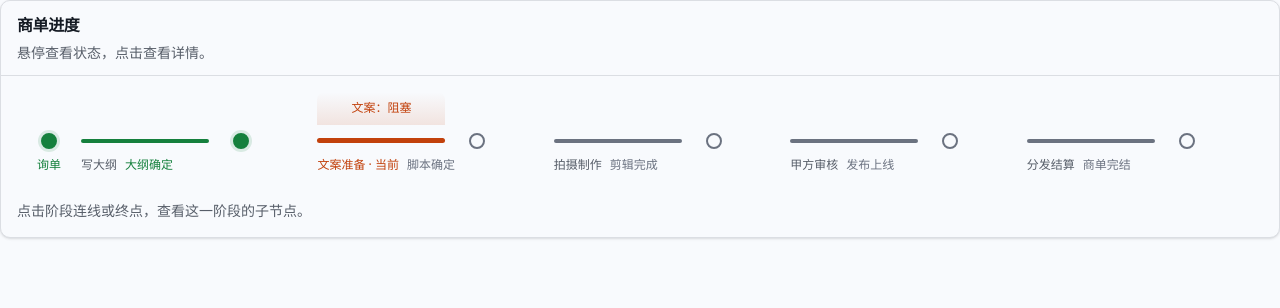
ProgressTimeline › paints not_applicable children as unfinished
Click the button with test id "progress-stage" showing "分发结算 商单完结": [1145, 158] box [1027,128,1263,188]
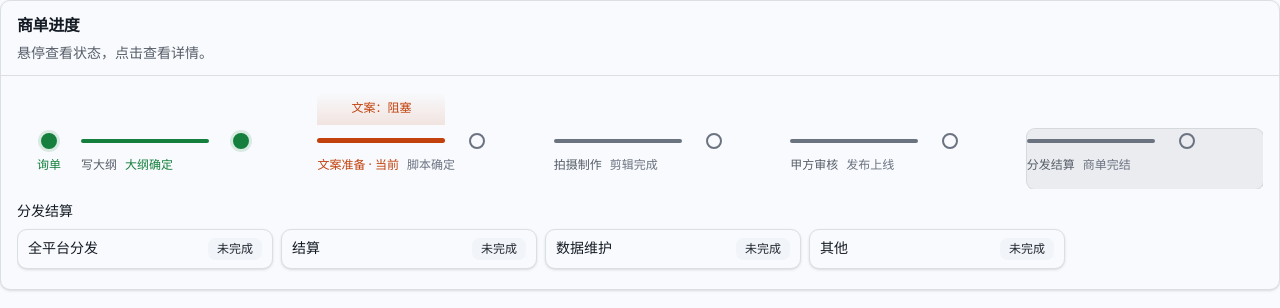
Check: the element with test id "progress-stage-node" shows "未完成", box [1009,240,1045,256]
